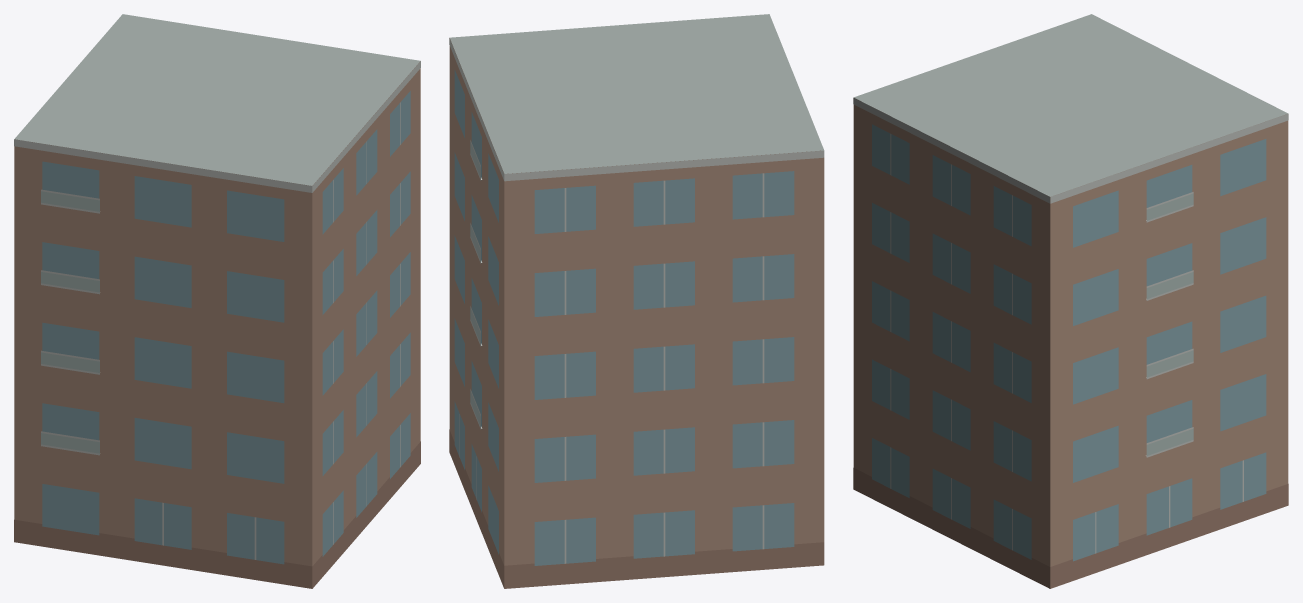
Rendered from survey-upis-33017098.glb.
3 views of the same model, side by side, from view 1: azimuth 30°, elevation 25°; view 2: azimuth 150°, elevation 25°; view 3: azimuth 270°, elevation 25° (orthographic). The views are drawn at different scales.
Visible parts, largest first — view 1: survey-upis-33017098.tmp; view 2: survey-upis-33017098.tmp; view 3: survey-upis-33017098.tmp.
Part boxes in pixels (x1,y1,x2,y2): survey-upis-33017098.tmp: (14, 14, 420, 588); survey-upis-33017098.tmp: (449, 14, 824, 588); survey-upis-33017098.tmp: (853, 14, 1288, 588).
Size of the model in its own units: 13.92 by 13.9 by 13.99.
